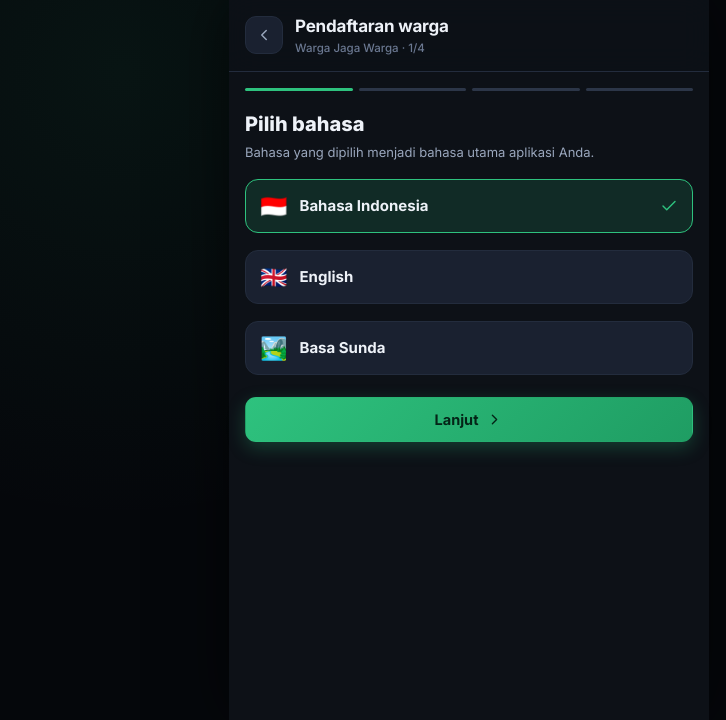
Test: kode undangan yang hanya ada di perangkat › kode yang benar-benar salah tetap ditolak
Click the button "Lanjut" at (469, 419), box [245,397,693,442]
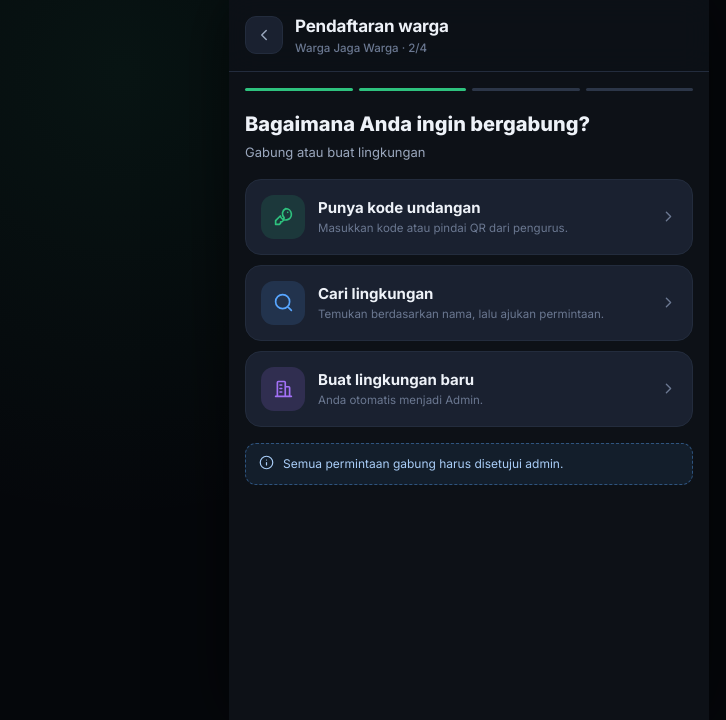
Click the button "Punya kode undangan" at (469, 217), box [245,179,693,255]
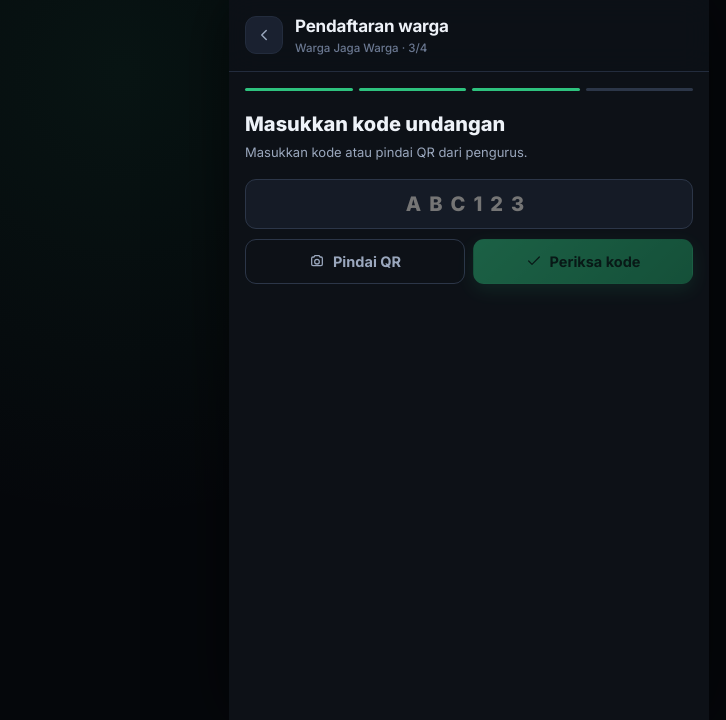
Expected: the field with placeholder "ABC123" is shown
Type "ZZZZZZ" into the field with placeholder "ABC123" at (469, 204), box [245,179,693,229]
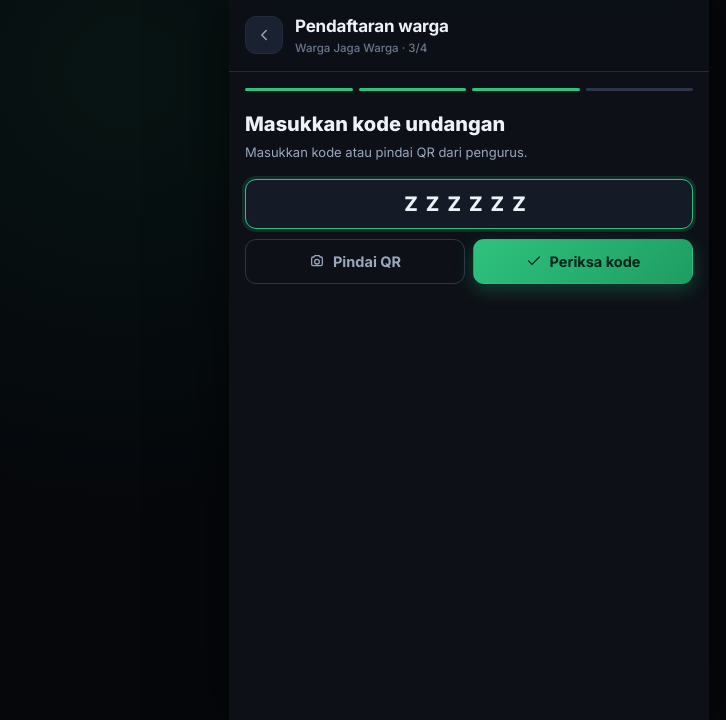
Click the button "Periksa kode" at (583, 261), box [473,239,693,284]
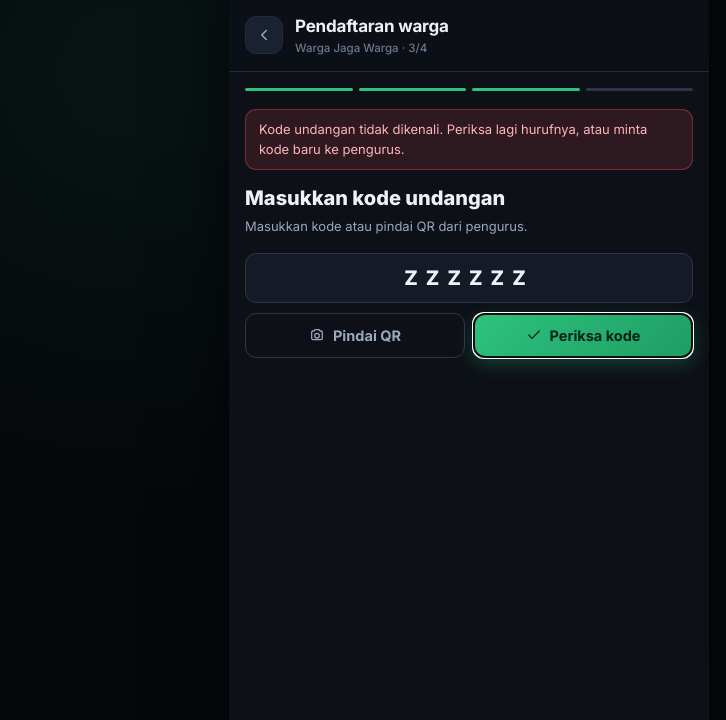
Expected: the text "tidak dikenali" is shown, [259,121,647,157]
